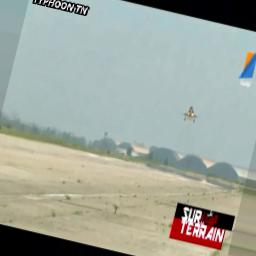Airplane: (181, 105, 200, 123)
